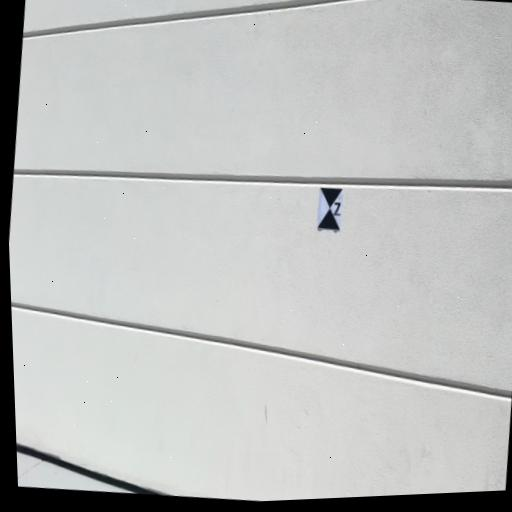target7: (315, 187, 345, 232)
